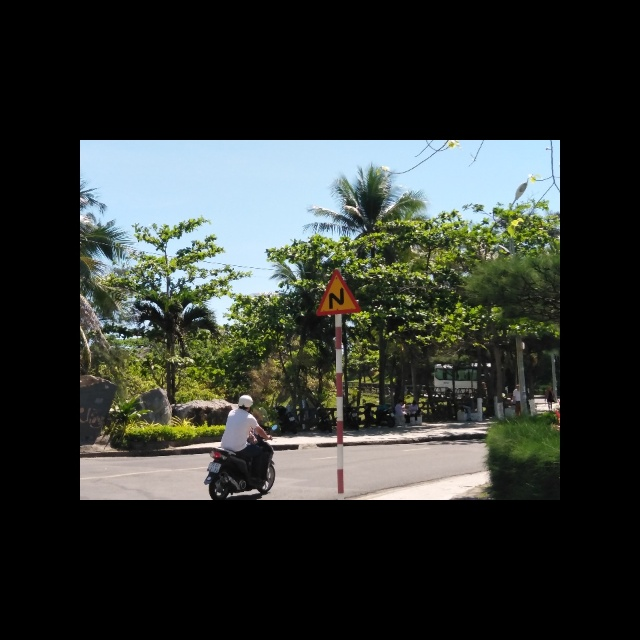Ngoặt nguy hiểm liên tiếp bên phải: (315, 270, 362, 314)
